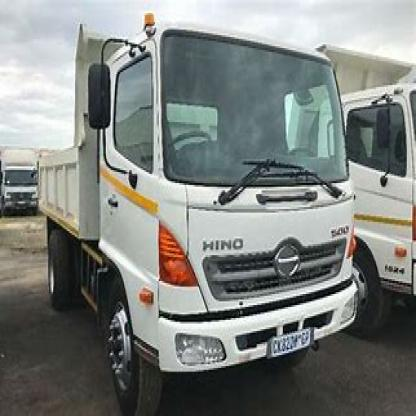dump_truck: (32, 17, 357, 412)
